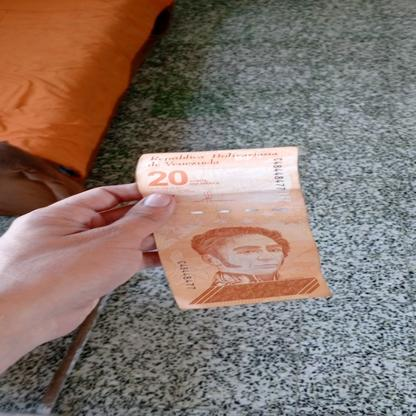twenty-front-vef: (134, 146, 330, 312)
